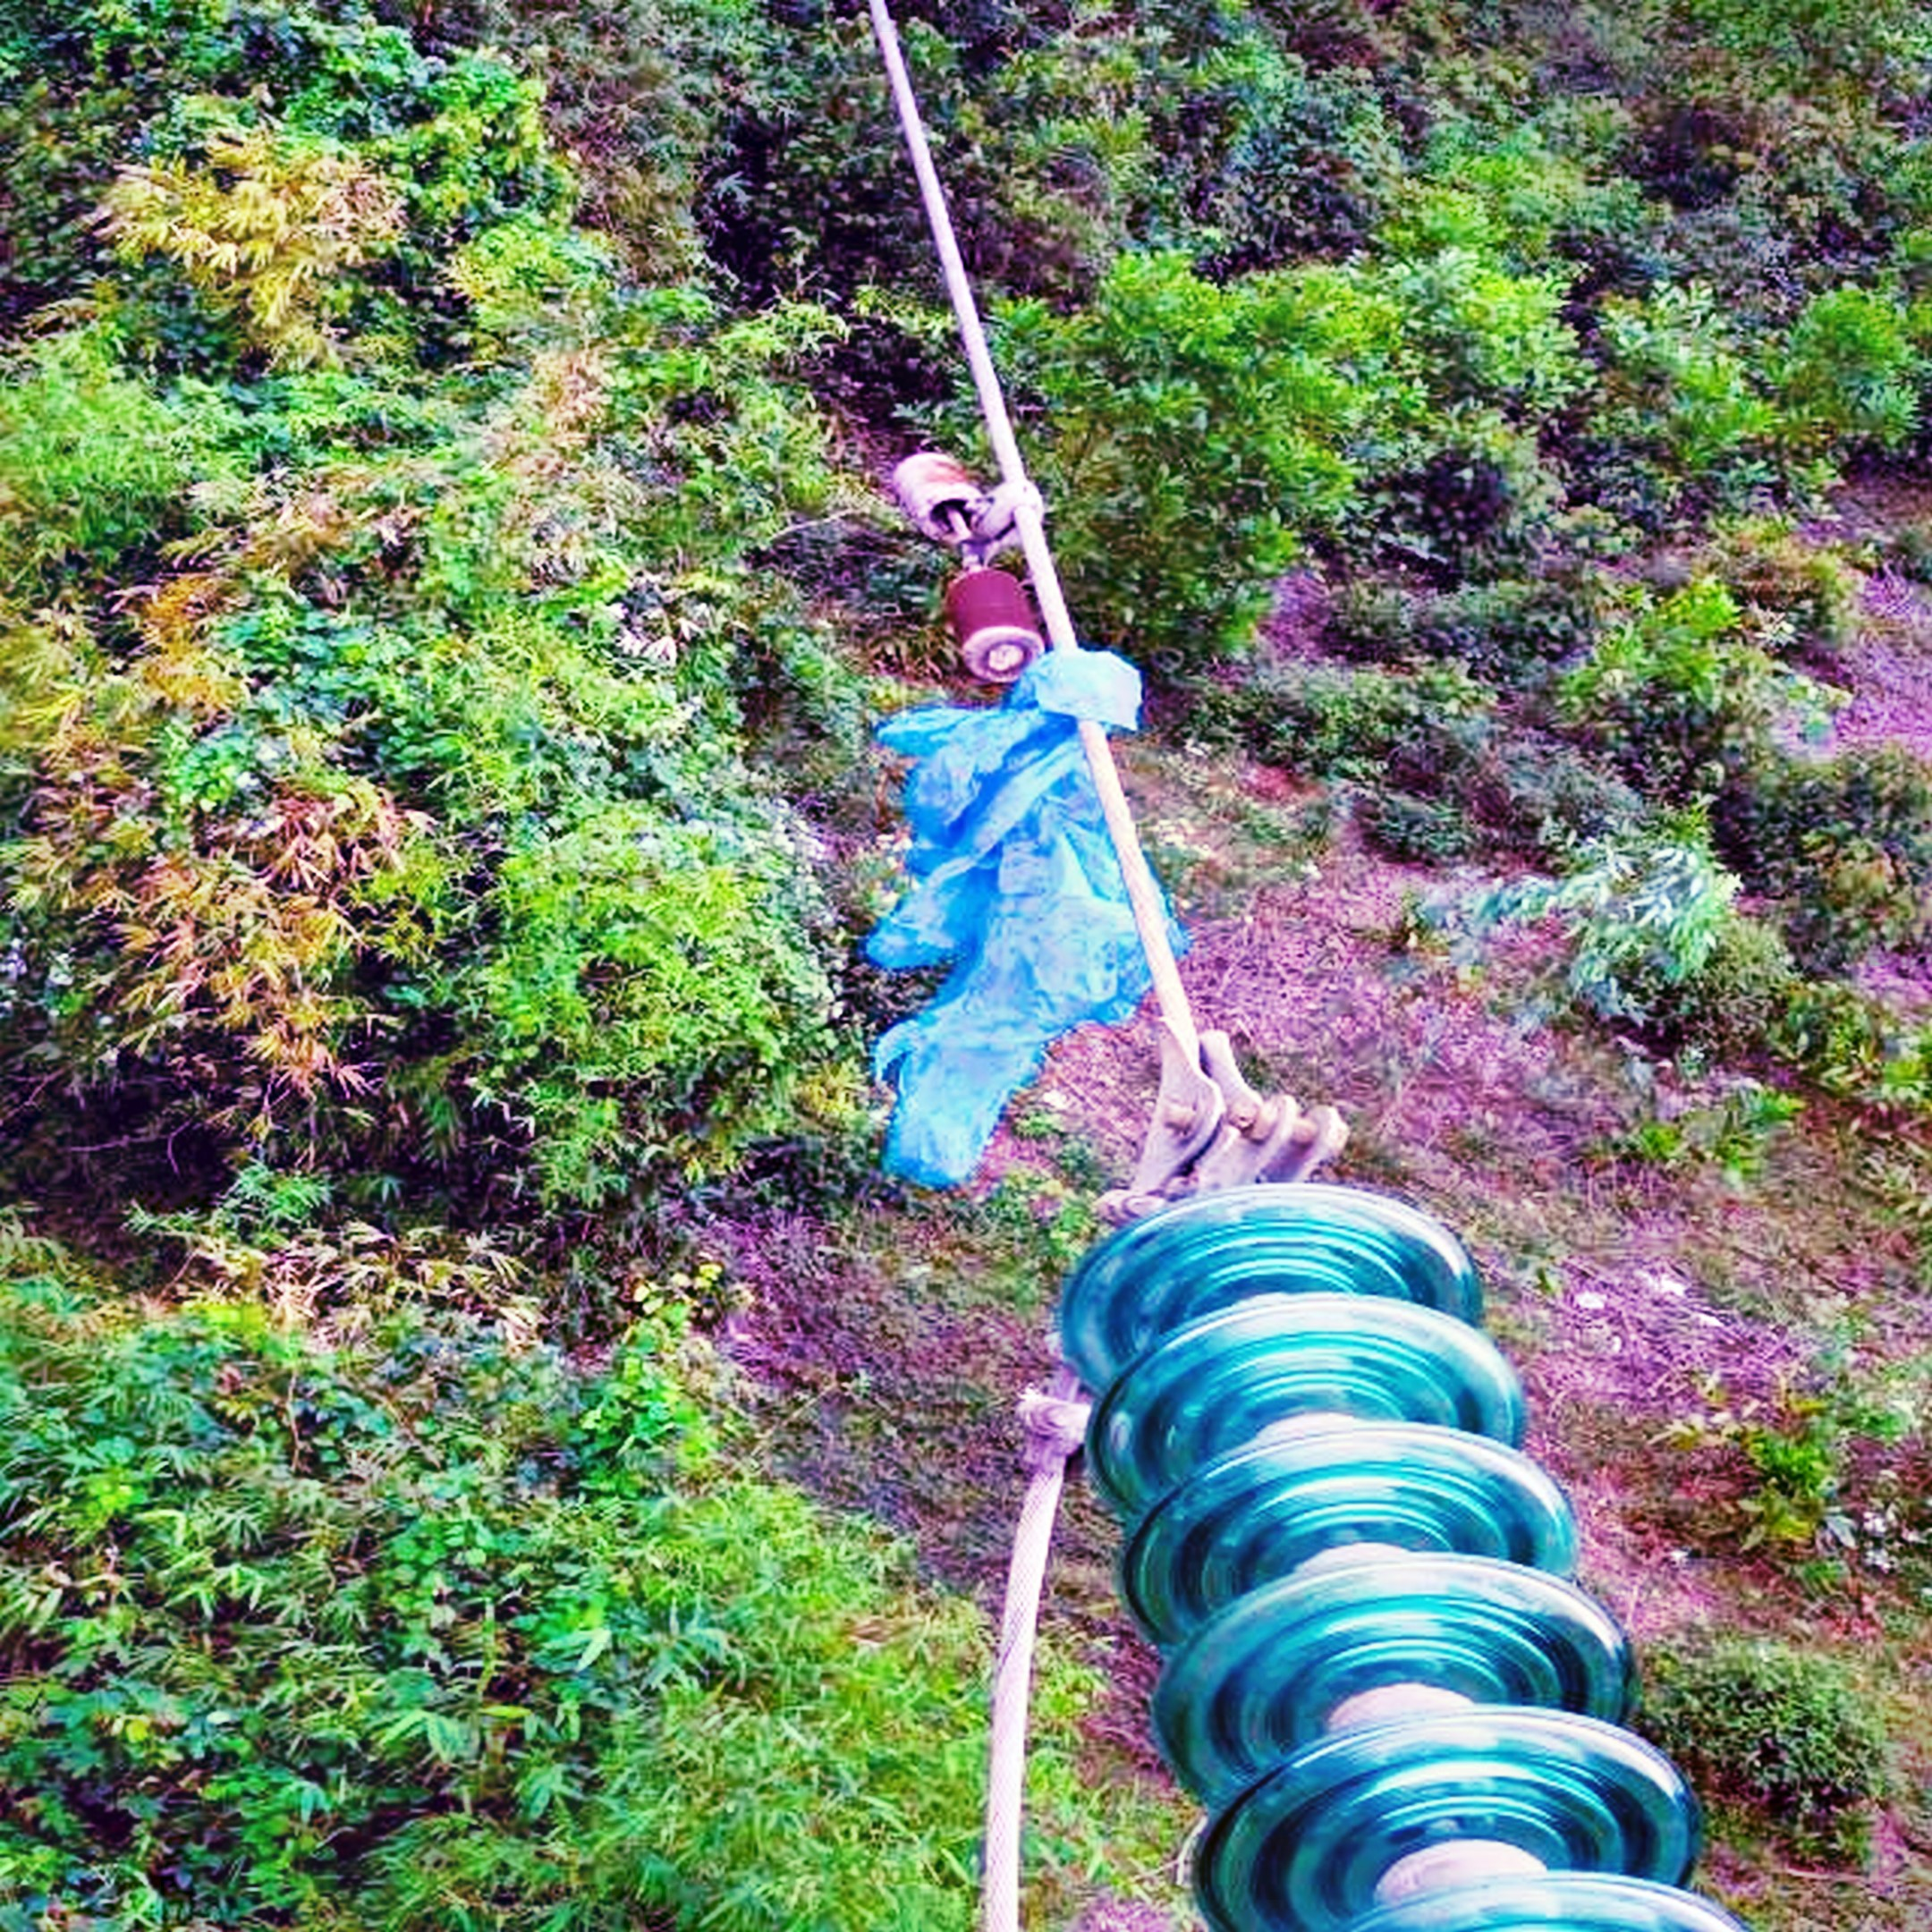wire foreign body: (817, 628, 1235, 1212)
